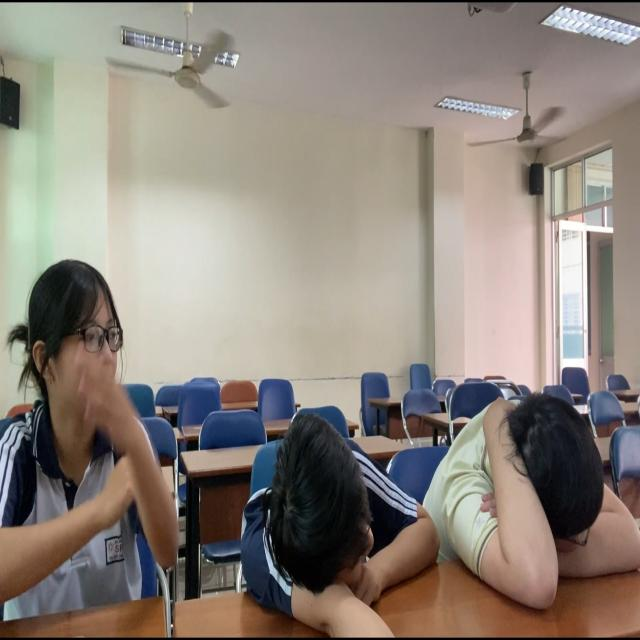raise_hand: (1, 251, 181, 640)
sleep: (425, 364, 640, 611), (224, 396, 436, 640)
